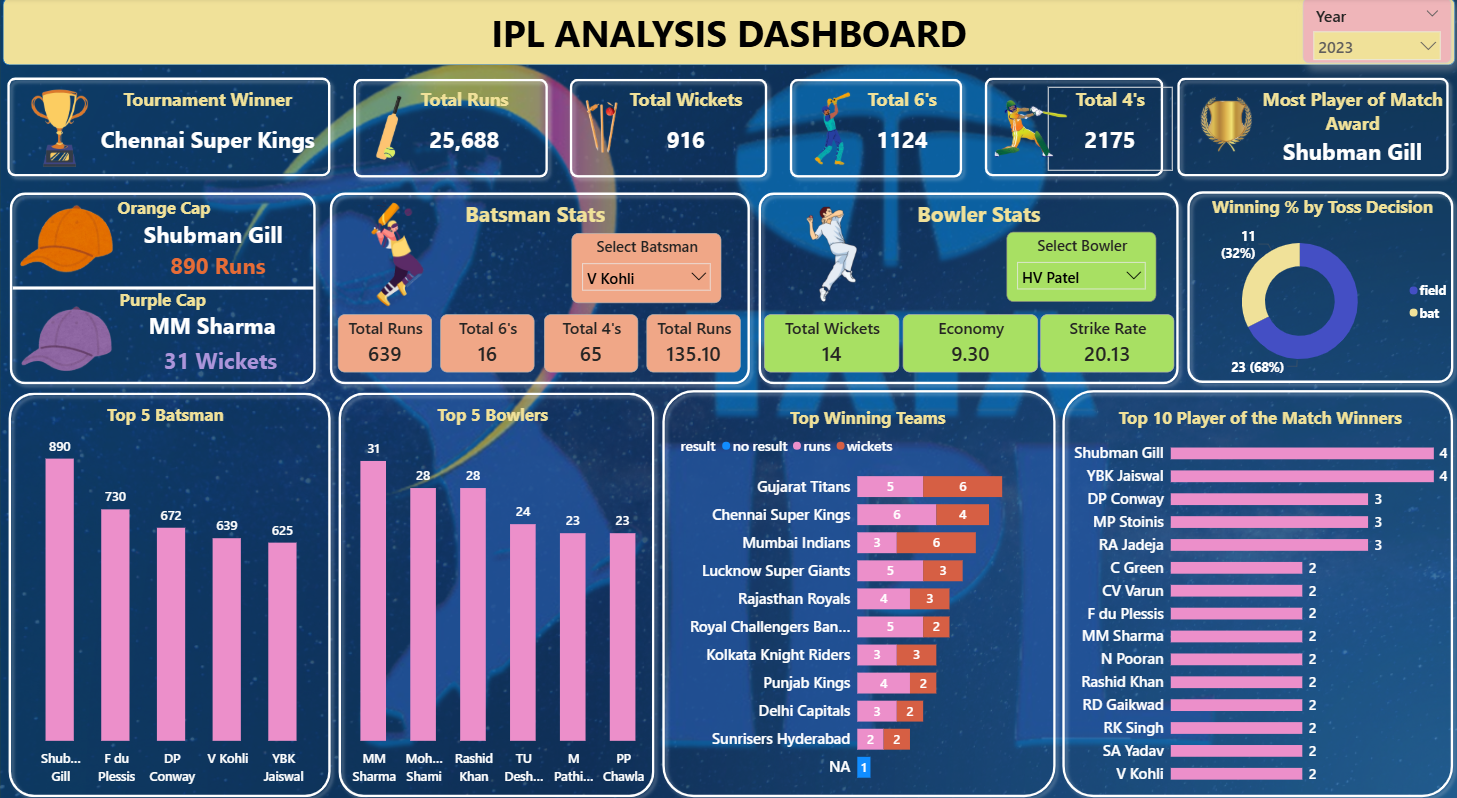

What the dashboard file says about the page in this screenshot:
{"tool":"powerbi","page":{"name":"Page 1","canvas":[1850,1020],"ordinal":0},"visuals":[{"type":"shape","box":[5.1,0,1838,85],"z":0},{"type":"shape","box":[1.7,92.4,426.9,142.9],"z":1000},{"type":"shape","box":[439.4,93.2,263.8,142.8],"z":2000},{"type":"shape","box":[714,93.2,267.7,142.8],"z":3000},{"type":"shape","box":[1238.6,92.4,243.7,142.9],"z":4000},{"type":"shape","box":[1482.3,92.4,361.3,142.9],"z":5000},{"type":"shape","box":[992.6,93.2,236,142.8],"z":6000},{"type":"slicer","fields":{"Values":["Date_table.Year"]},"box":[1650.3,0,188.2,82],"z":7000},{"type":"card","title":"Tournament Winner","fields":{"Values":["matches.TournamentWinner"]},"box":[116,112.6,297.5,105.9],"z":8000},{"type":"card","title":"Total Runs","fields":{"Values":["deliveries.total_runs"]},"box":[507.7,113,162.6,105.1],"z":9000},{"type":"card","title":"Total Wickets","fields":{"Values":["deliveries.is_wicket"]},"box":[791.3,113,156.7,105.1],"z":10000},{"type":"card","title":"Total 6''s","fields":{"Values":["deliveries.batsman_runs"]},"box":[1065,113,156.7,105.1],"z":11000},{"type":"card","title":"Total 4''s","fields":{"Values":["deliveries.batsman_runs"]},"box":[1327.7,112.6,158,105.9],"z":12000},{"type":"card","title":"Most Player of Match Award","fields":{"Values":["matches.player_of_match"]},"box":[1593.2,112.6,240.3,105.9],"z":13000},{"type":"shape","box":[5,238,405,260.5],"z":14000},{"type":"shape","box":[16.7,350.9,381.7,31.7],"z":15000},{"type":"textbox","box":[87.4,244.7,243.7,40.3],"z":16000},{"type":"textbox","box":[85.7,362.3,243.7,38.7],"z":17000},{"type":"card","fields":{"Values":["deliveries.batter"]},"box":[144.8,271.5,251.9,55.5],"z":18000},{"type":"card","fields":{"Values":["deliveries.Orange Cap Holder Runs"]},"box":[161.3,311.9,231.9,55.5],"z":19000},{"type":"card","fields":{"Values":["deliveries.bowler"]},"box":[144.5,387.5,252.1,55.5],"z":20000},{"type":"card","fields":{"Values":["deliveries.Purple Cap Holder Wickets"]},"box":[164.7,431.2,231.9,55.5],"z":21000},{"type":"shape","box":[410.1,238,549.6,260.5],"z":22000},{"type":"shape","box":[952.9,238,549.6,260.5],"z":23000},{"type":"slicer","title":"Select Batsman","fields":{"Values":["deliveries.batter"]},"box":[724.3,296.8,189.9,89.1],"z":24000},{"type":"card","title":"Total Runs","fields":{"Values":["deliveries.batsman_runs"]},"box":[428.6,401,119.3,73.9],"z":25000},{"type":"card","title":"Total 6''s","fields":{"Values":["deliveries.batsman_runs"]},"box":[559.1,401,119.3,73.9],"z":26000},{"type":"card","title":"Total 4''s","fields":{"Values":["deliveries.batsman_runs"]},"box":[689.6,401,119.3,73.9],"z":27000},{"type":"card","title":"Total Runs","fields":{"Values":["deliveries.Batsman Strike Rate"]},"box":[820.1,401,119.3,73.9],"z":28000},{"type":"slicer","title":"Select Bowler","fields":{"Values":["deliveries.bowler"]},"box":[1275.6,295.1,189.9,89.1],"z":29000},{"type":"card","title":"Total Wickets","fields":{"Values":["deliveries.is_wicket"]},"box":[968,401,171.4,73.9],"z":30000},{"type":"card","title":"Economy","fields":{"Values":["deliveries.Bowler Economy"]},"box":[1143.6,401,171.4,73.9],"z":31000},{"type":"card","title":"Strike Rate","fields":{"Values":["deliveries.Bowler Strike Rate"]},"box":[1317.6,401,169.7,73.9],"z":32000},{"type":"textbox","box":[561.3,249.7,233.6,45.4],"z":33000},{"type":"shape","box":[1495.4,236.3,354.6,260.5],"z":34000},{"type":"textbox","box":[1122.6,249.7,233.6,45.4],"z":35000},{"type":"donutChart","title":"Winning % by Toss Decision","fields":{"Y":["matches.winner"],"Category":["matches.toss_decision"]},"box":[1504.1,248.1,341.2,242],"z":36000},{"type":"shape","box":[3.2,490.4,425.5,529.9],"z":37000},{"type":"columnChart","title":"Top 5 Batsman","fields":{"Y":["deliveries.batsman_runs"],"Category":["deliveries.batter"]},"box":[8.4,512.6,405,490.7],"z":38000},{"type":"shape","box":[420.8,490.4,417.6,529.9],"z":39000},{"type":"columnChart","title":"Top 5 Bowlers","fields":{"Y":["deliveries.is_wicket"],"Category":["deliveries.bowler"]},"box":[411.7,512.6,426.9,490.7],"z":40000},{"type":"shape","box":[830.5,487.2,515.7,533.1],"z":41000},{"type":"shape","box":[1336.7,487.2,512.5,533.1],"z":42000},{"type":"barChart","title":"Top Winning Teams","fields":{"Category":["matches.winner"],"Y":["matches.winner"],"Series":["matches.result"]},"box":[857.1,515.9,484,490.7],"z":43000},{"type":"barChart","title":"Top 10 Player of the Match Winners","fields":{"Category":["matches.player_of_match"],"Y":["matches.player_of_match"]},"box":[1354.6,515.9,484,490.7],"z":44000},{"type":"image","box":[21.8,238.6,129.4,134.4],"z":44001},{"type":"image","box":[21.8,366.4,129.4,131.1],"z":44002},{"type":"image","box":[438.6,109.2,110.9,110.9],"z":44003},{"type":"image","box":[16.8,105.9,119.3,117.6],"z":44004},{"type":"image","box":[714.3,121,95.8,89.1],"z":44005},{"type":"image","box":[1003.3,110.9,107.6,109.2],"z":44006},{"type":"image","box":[1252,110.9,109.2,114.3],"z":44007},{"type":"image","box":[1502.5,114.3,104.2,95.8],"z":44008},{"type":"image","box":[413.4,247,174.8,154.6],"z":44009},{"type":"image","box":[989.9,258.8,127.7,129.4],"z":44010}]}

Visuals, with their boxes in screenshot pixels (x1, y1, x2, y2), scaled from the page's 1850x1020 canvas onto the 1457x798 screenshot:
shape: (4,0,1452,66)
shape: (1,72,338,184)
shape: (346,73,554,185)
shape: (562,73,773,185)
shape: (975,72,1167,184)
shape: (1167,72,1452,184)
shape: (782,73,968,185)
slicer - Date_table.Year: (1300,0,1448,64)
"Tournament Winner" card: (91,88,326,171)
"Total Runs" card: (400,88,528,171)
"Total Wickets" card: (623,88,747,171)
"Total 6''s" card: (839,88,962,171)
"Total 4''s" card: (1046,88,1170,171)
"Most Player of Match Award" card: (1255,88,1444,171)
shape: (4,186,323,390)
shape: (13,275,314,299)
textbox: (69,191,261,223)
textbox: (67,283,259,314)
card - deliveries.batter: (114,212,312,256)
card - deliveries.Orange Cap Holder Runs: (127,244,310,287)
card - deliveries.bowler: (114,303,312,347)
card - deliveries.Purple Cap Holder Wickets: (130,337,312,381)
shape: (323,186,756,390)
shape: (750,186,1183,390)
"Select Batsman" slicer: (570,232,720,302)
"Total Runs" card: (338,314,432,372)
"Total 6''s" card: (440,314,534,372)
"Total 4''s" card: (543,314,637,372)
"Total Runs" card: (646,314,740,372)
"Select Bowler" slicer: (1005,231,1154,301)
"Total Wickets" card: (762,314,897,372)
"Economy" card: (901,314,1036,372)
"Strike Rate" card: (1038,314,1171,372)
textbox: (442,195,626,231)
shape: (1178,185,1456,389)
textbox: (884,195,1068,231)
"Winning % by Toss Decision" donutChart: (1185,194,1453,383)
shape: (3,384,338,797)
"Top 5 Batsman" columnChart: (7,401,326,785)
shape: (331,384,660,797)
"Top 5 Bowlers" columnChart: (324,401,660,785)
shape: (654,381,1060,797)
shape: (1053,381,1456,797)
"Top Winning Teams" barChart: (675,404,1056,788)
"Top 10 Player of the Match Winners" barChart: (1067,404,1448,788)
image: (17,187,119,292)
image: (17,287,119,389)
image: (345,85,433,172)
image: (13,83,107,175)
image: (563,95,638,164)
image: (790,87,875,172)
image: (986,87,1072,176)
image: (1183,89,1265,164)
image: (326,193,463,314)
image: (780,202,880,304)
